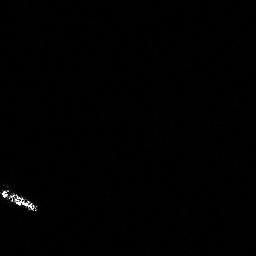ship: (1, 186, 39, 213)
